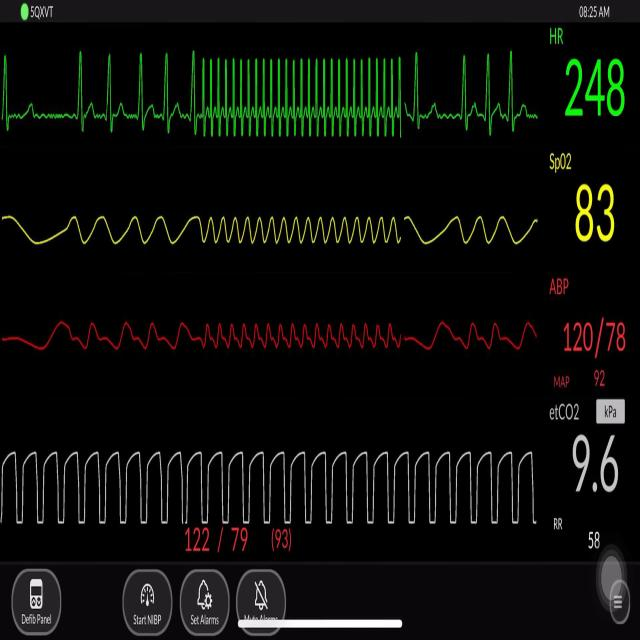danger: (194, 47, 409, 146)
